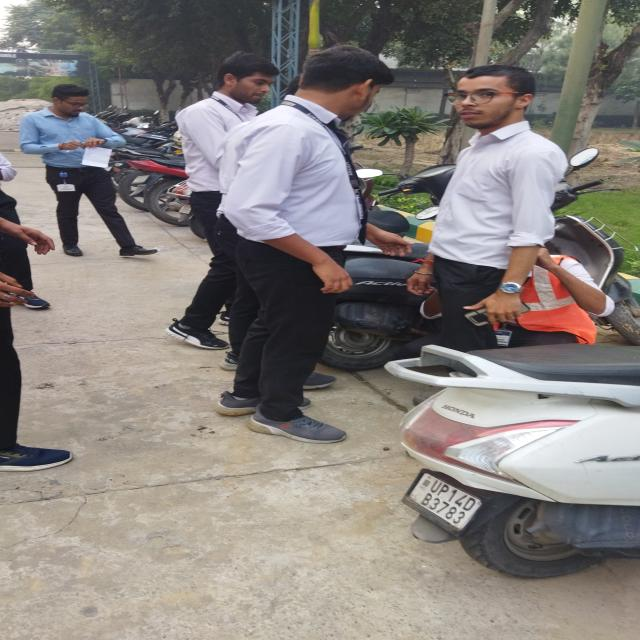unsafe: (231, 53, 392, 440), (430, 70, 567, 347), (172, 57, 276, 346), (25, 82, 136, 255)
